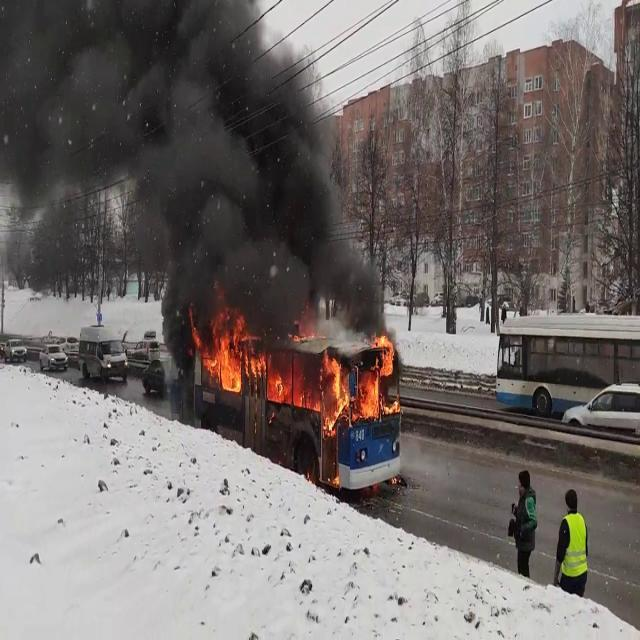Fire: (318, 328, 400, 434), (202, 315, 264, 394)
Smoke: (0, 0, 386, 332)
